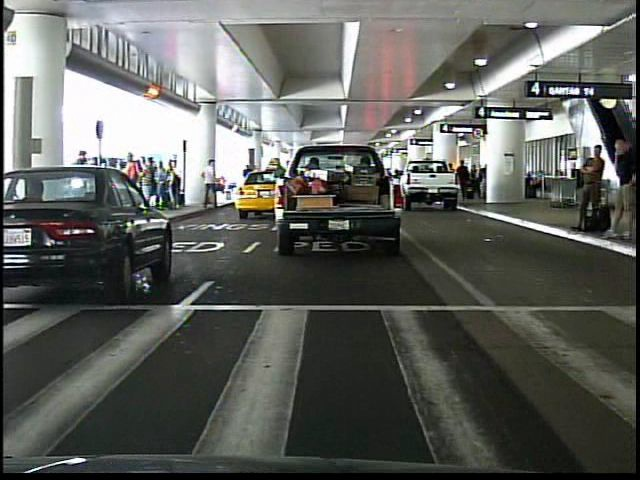person: (568, 133, 606, 241), (605, 136, 635, 240), (120, 152, 146, 222), (201, 160, 223, 213)
